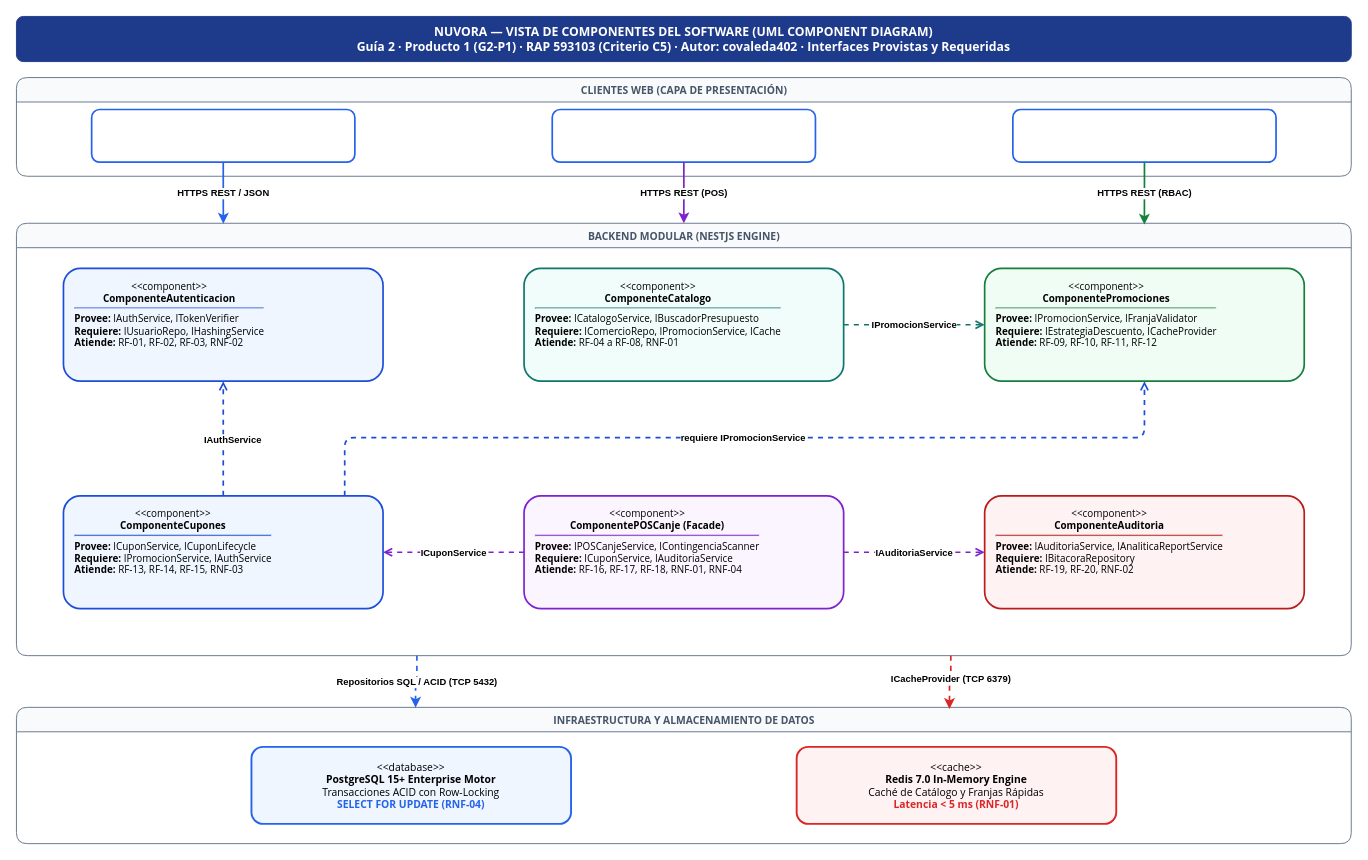
Some shapes in this 1368 by 860 pixel diagram are drawn without their labels. Here are the shapes that lost their labels. From the top down, the centre of each, then its label:
(x=222, y=135): <<component>> PWA Visitante Mobile
(x=683, y=135): <<component>> Terminal Web POS Caja
(x=1144, y=135): <<component>> Portal Web Administrador
